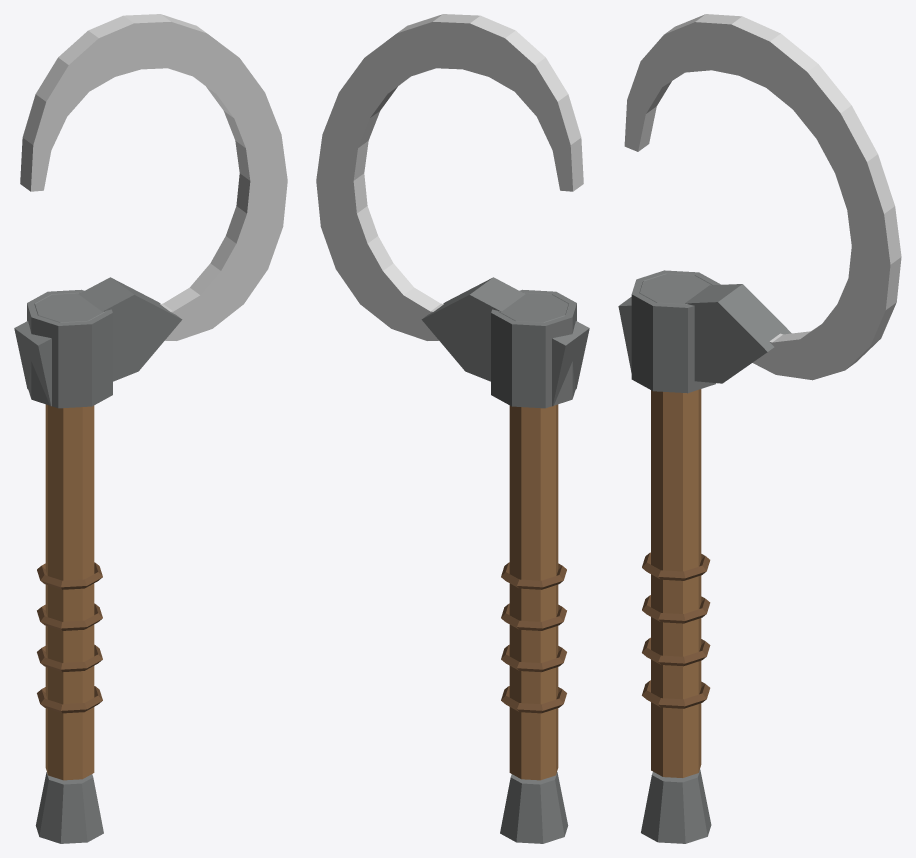
Rendered from t1_sickle.glb.
3 views of the same model, side by side, from view 1: azimuth 30°, elevation 25°; view 2: azimuth 150°, elevation 25°; view 3: azimuth 330°, elevation 25° (orthographic). The views are drawn at different scales.
Parts seen in each view (by area): view 1: CurvedBlade, WoodHandle, BladeSocket, BladeBasePlate, BottomPommel, LeatherWrap3, LeatherWrap1, LeatherWrap4, LeatherWrap2; view 2: CurvedBlade, WoodHandle, BladeSocket, BladeBasePlate, BottomPommel, LeatherWrap3, LeatherWrap1, LeatherWrap4, LeatherWrap2; view 3: CurvedBlade, WoodHandle, BladeSocket, BladeBasePlate, BottomPommel, LeatherWrap4, LeatherWrap2, LeatherWrap3, LeatherWrap1.
Boxes of the visible parts, bbox=[...] form: CurvedBlade: bbox=[20, 14, 287, 340]; WoodHandle: bbox=[45, 404, 94, 780]; BladeSocket: bbox=[27, 289, 112, 408]; BladeBasePlate: bbox=[14, 277, 182, 406]; BottomPommel: bbox=[35, 772, 103, 843]; LeatherWrap3: bbox=[37, 603, 102, 630]; LeatherWrap1: bbox=[37, 686, 102, 713]; LeatherWrap4: bbox=[37, 562, 102, 589]; LeatherWrap2: bbox=[37, 644, 102, 672]; CurvedBlade: bbox=[316, 14, 583, 340]; WoodHandle: bbox=[509, 404, 558, 780]; BladeSocket: bbox=[491, 289, 576, 408]; BladeBasePlate: bbox=[421, 277, 589, 406]; BottomPommel: bbox=[500, 772, 568, 843]; LeatherWrap3: bbox=[501, 603, 566, 630]; LeatherWrap1: bbox=[501, 686, 566, 713]; LeatherWrap4: bbox=[501, 562, 566, 589]; LeatherWrap2: bbox=[501, 644, 566, 672]; CurvedBlade: bbox=[624, 14, 901, 380]; WoodHandle: bbox=[651, 389, 701, 777]; BladeSocket: bbox=[631, 270, 720, 393]; BladeBasePlate: bbox=[618, 284, 791, 383]; BottomPommel: bbox=[641, 769, 711, 843]; LeatherWrap4: bbox=[642, 552, 710, 580]; LeatherWrap2: bbox=[642, 637, 710, 666]; LeatherWrap3: bbox=[642, 595, 710, 623]; LeatherWrap1: bbox=[642, 680, 710, 708].
Size of the model in its own units: 0.5877 by 1.74 by 0.176.
